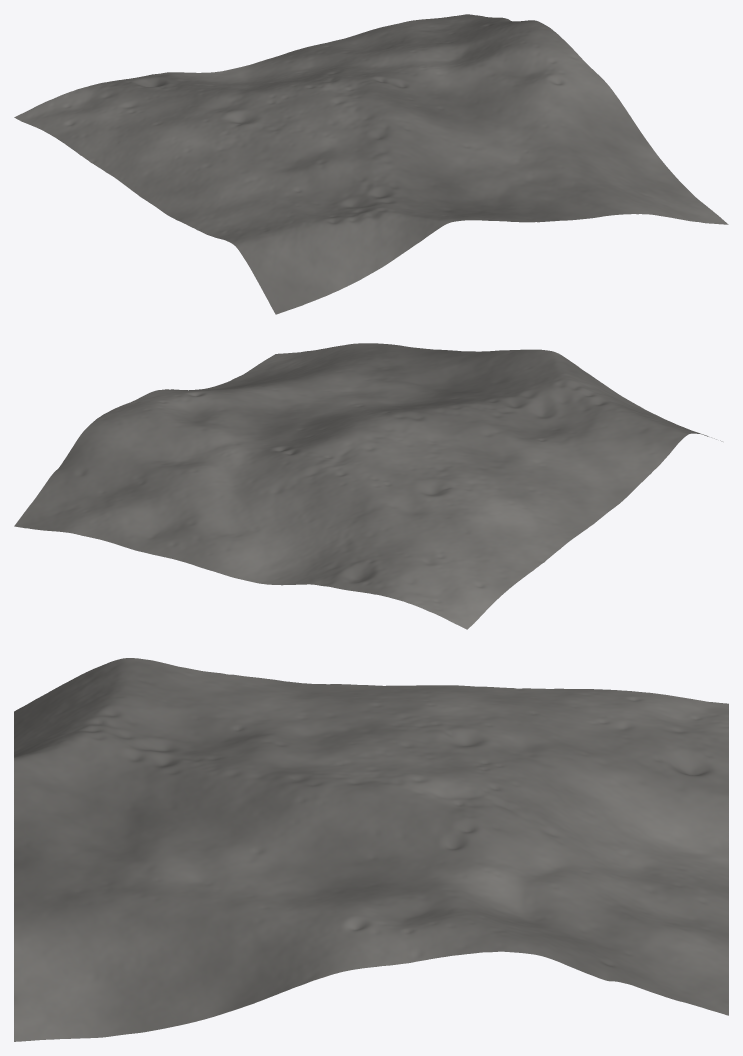
The model's file is connecting-ridge.glb.
The picture shows the model from 3 angles, top to bottom: view 1: azimuth 30°, elevation 25°; view 2: azimuth 150°, elevation 25°; view 3: azimuth 270°, elevation 25°; orthographic projection. The views are drawn at different scales.
Parts seen in each view (by area): view 1: Ground; view 2: Ground; view 3: Ground.
Boxes of the visible parts, x1=… form: Ground: x1=14, y1=14, x2=728, y2=314; Ground: x1=14, y1=343, x2=722, y2=629; Ground: x1=14, y1=658, x2=728, y2=1041.
Bounding box in the file's own units: 20 × 3.22 × 20.
Materials: 1 (1 with a texture image).
